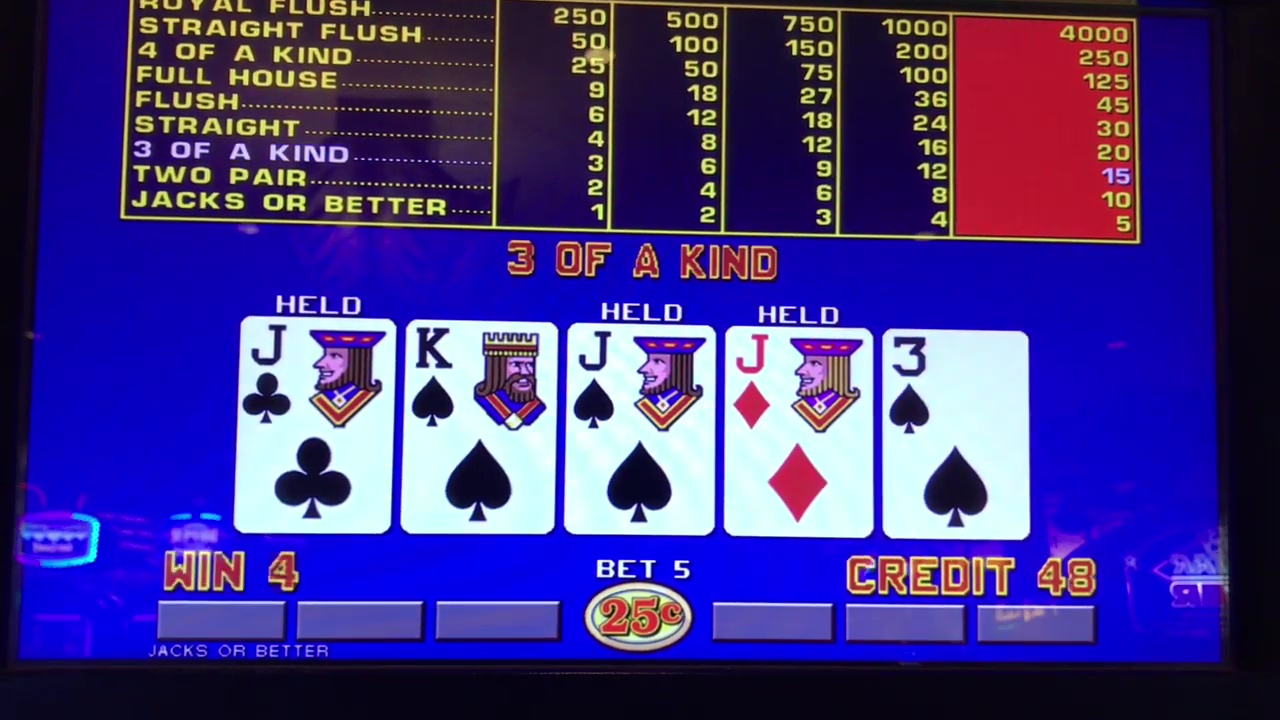CJ: (244, 320, 389, 531)
DJ: (730, 331, 870, 535)
S3: (884, 331, 1023, 539)
SJ: (573, 326, 708, 529)
SK: (408, 321, 548, 531)
